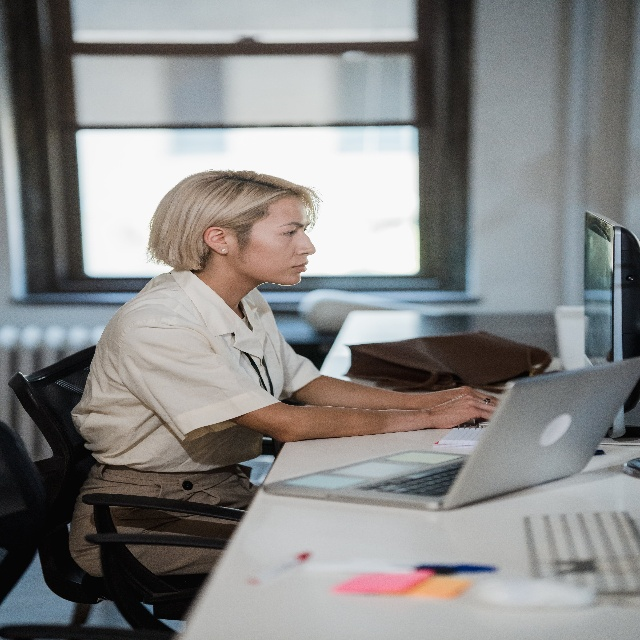Sin_guantes: (425, 395, 496, 420)
